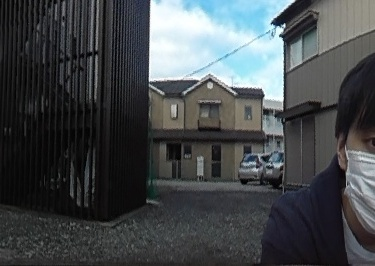person: (248, 49, 375, 266)
